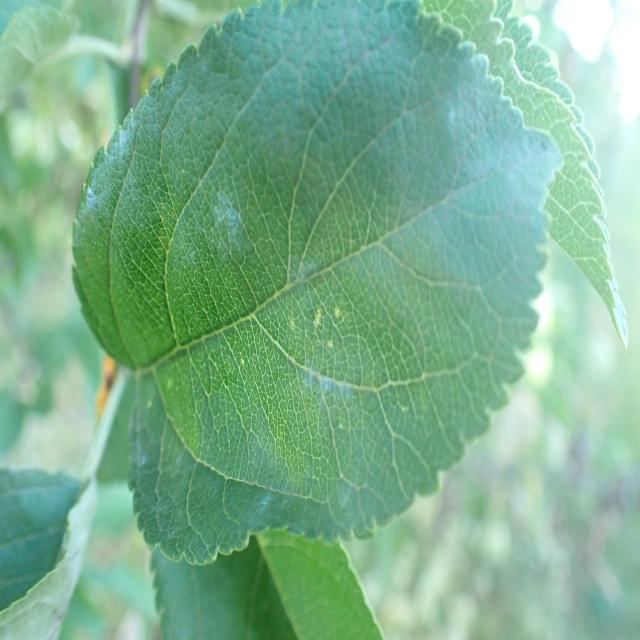Powdery_mildew: (69, 51, 556, 524)
